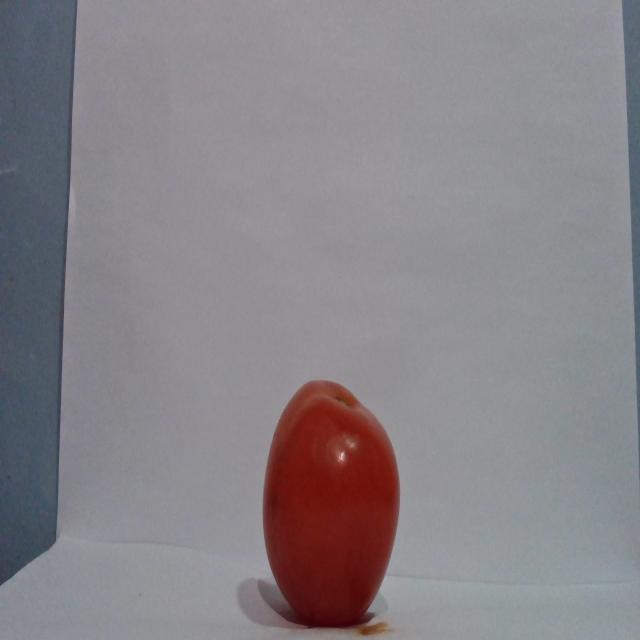Red: (260, 377, 401, 626)
